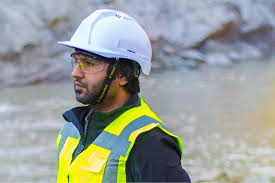Person_wearing_helmet: (58, 4, 159, 73)
